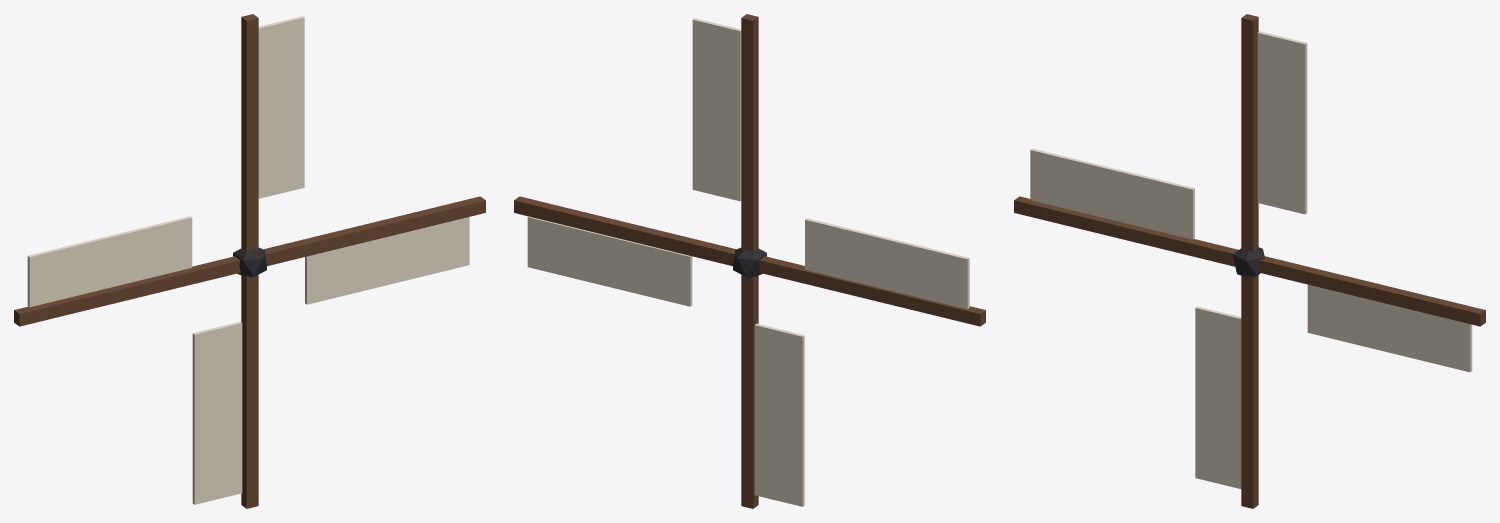
Rendered from windmill_blades.glb.
3 views of the same model, side by side, from view 1: azimuth 30°, elevation 25°; view 2: azimuth 150°, elevation 25°; view 3: azimuth 330°, elevation 25° (orthographic).
Parts seen in each view (by area): view 1: windmill_blades; view 2: windmill_blades; view 3: windmill_blades.
Boxes of the visible parts, x1,y1,x2,y2 form: windmill_blades: [14, 14, 485, 508]; windmill_blades: [514, 14, 985, 508]; windmill_blades: [1014, 14, 1485, 508].
Size of the model in its own units: 1.95 by 1.95 by 0.1191.
